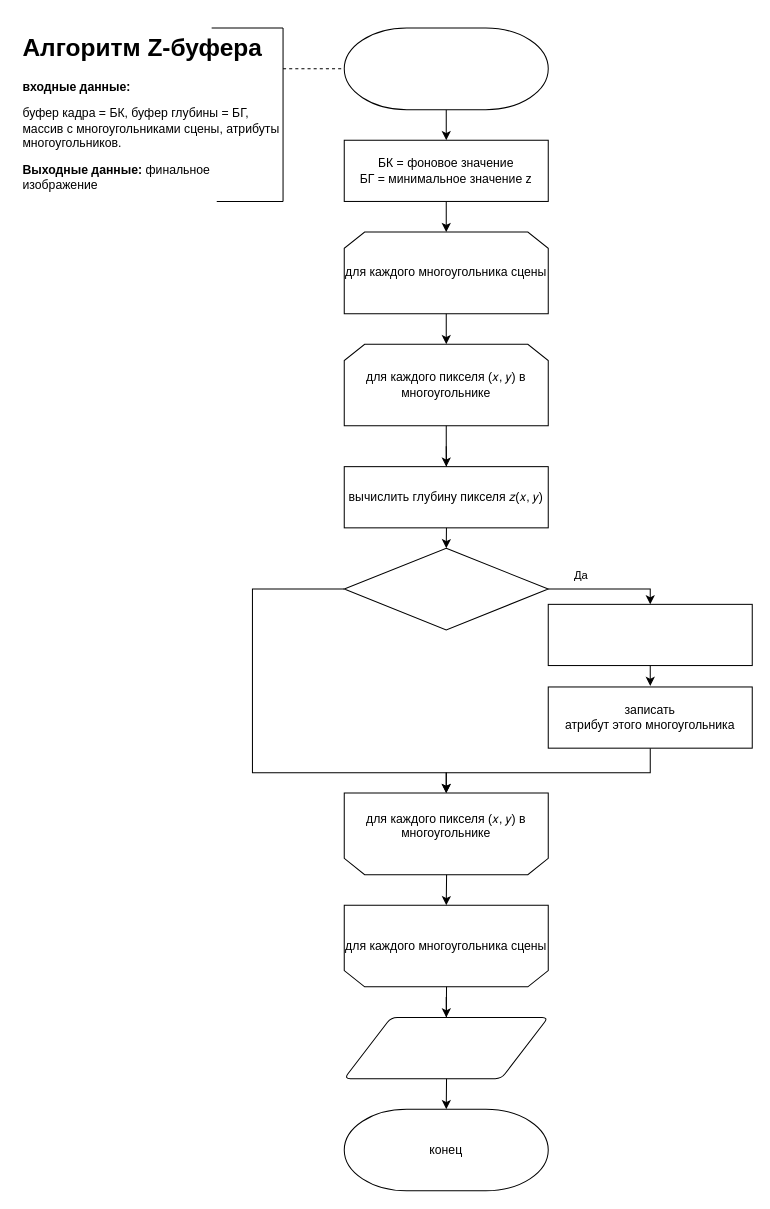
This 770x1209 diagram has some shape labels left out. Here are the shapes that lost their labels. From the top down, the box of each, then its label:
(343, 27, 548, 110): Начало
(343, 547, 548, 630): 𝑧(𝑥, 𝑦) > БГ (𝑥, 𝑦) ?
(547, 603, 752, 666): БГ (𝑥, 𝑦) = 𝑧(𝑥, 𝑦)
(343, 1016, 548, 1079): финальное изображение
